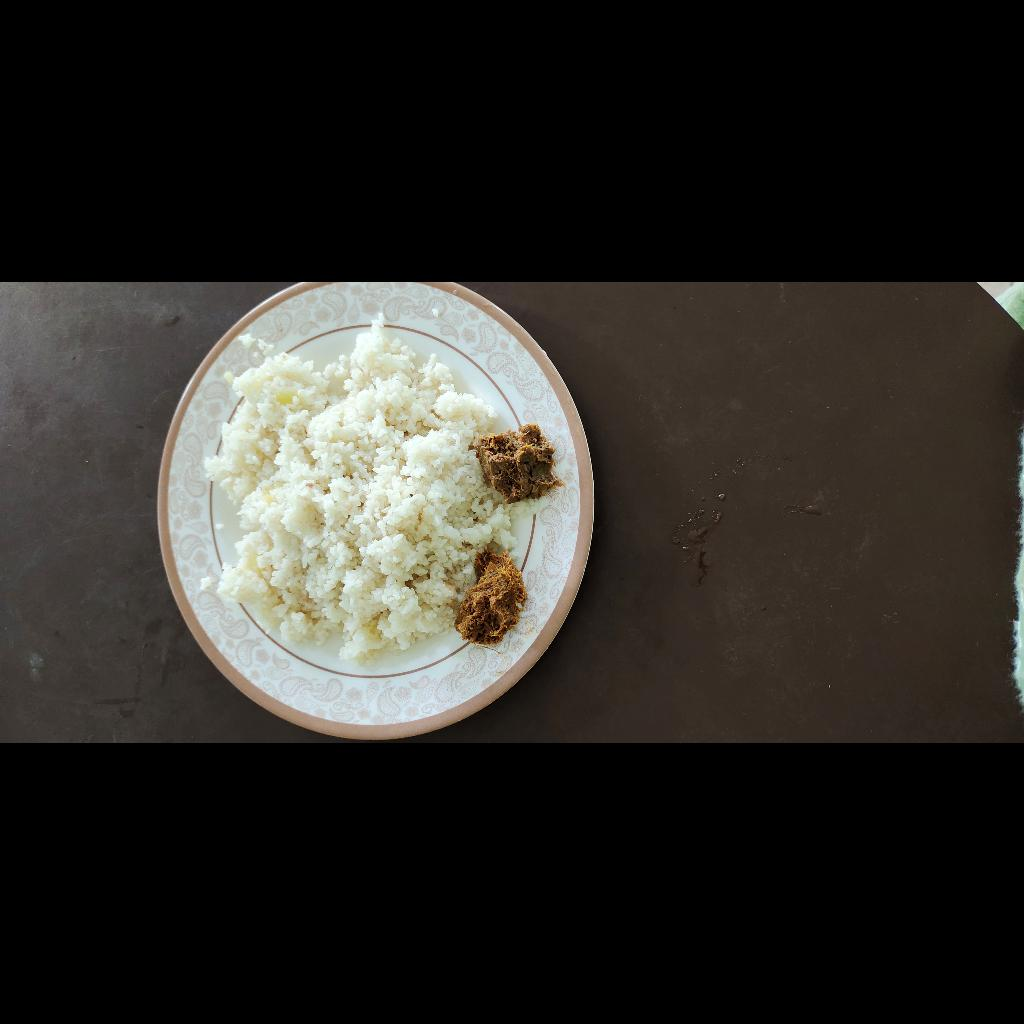rice: (78, 485, 426, 820)
vorta: (237, 751, 320, 842), (100, 737, 191, 808)
